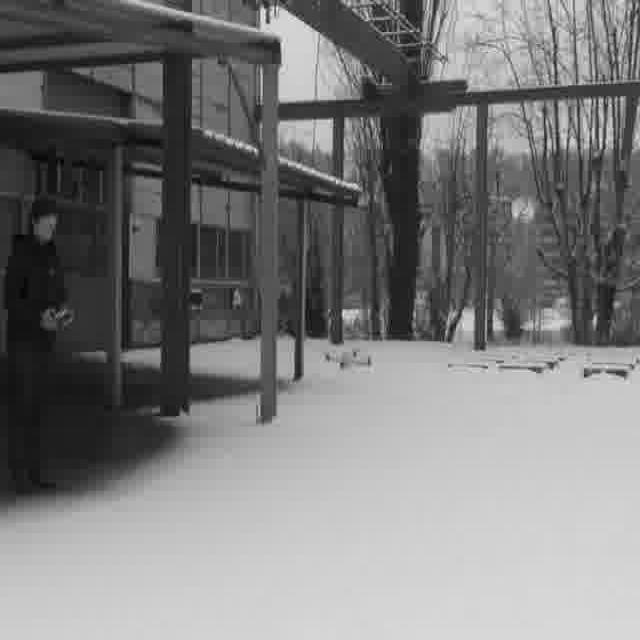drone: (318, 338, 376, 377)
